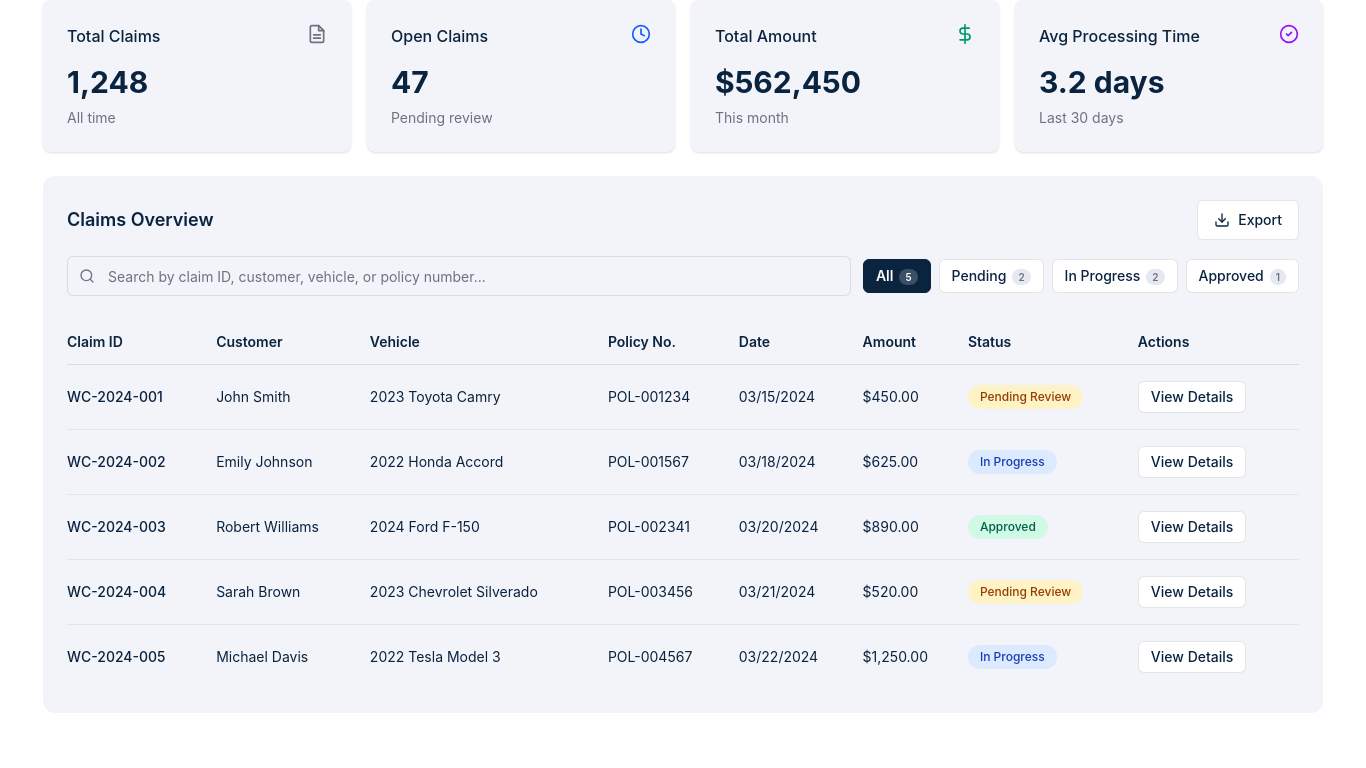
Test: InsurerDashboardPage › opens the claim detail modal when View Details is clicked
Click the button "View Details" in the row of "WC-2024-001" at (1192, 397), box [1138,381,1246,413]
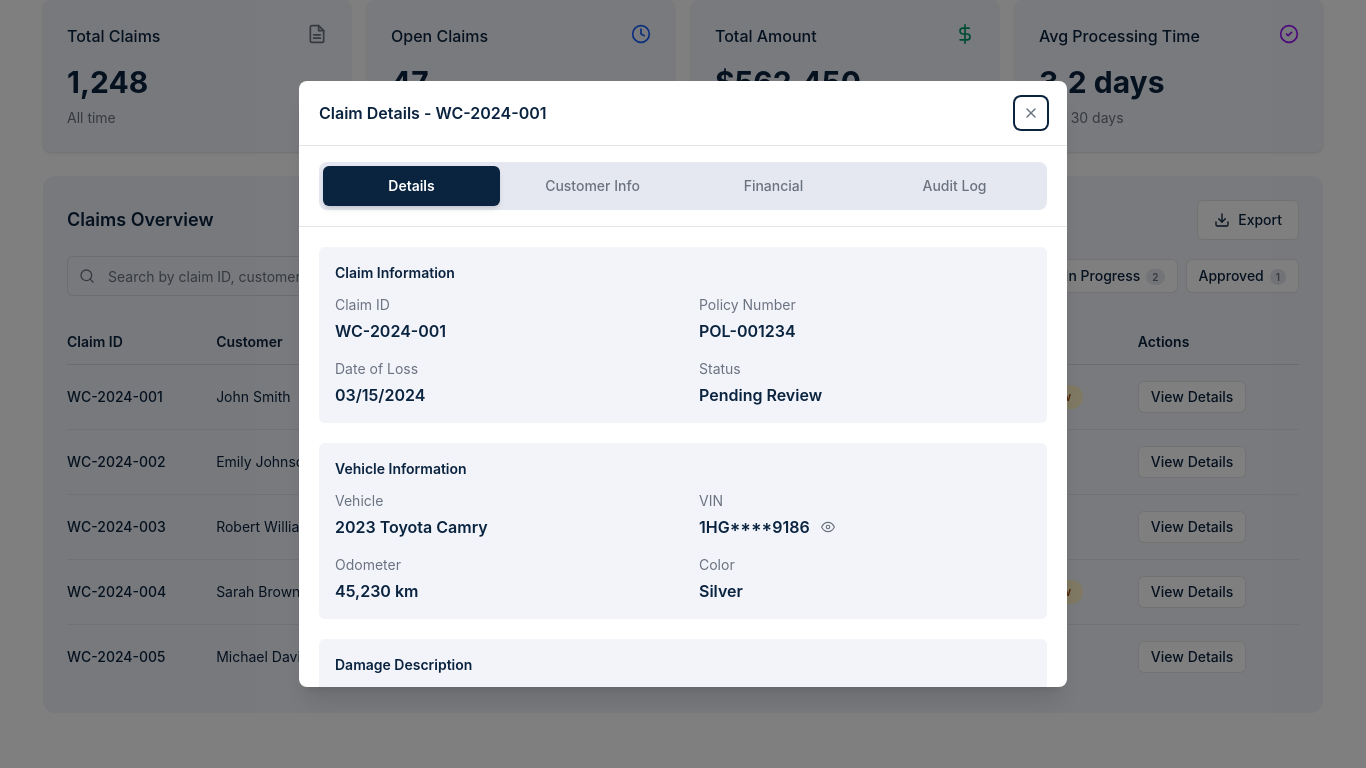
Now the heading "Claim Details - WC-2024-001" is shown, box [319,101,546,125]
Now the tab "Customer Info" is shown, box [504,166,681,206]
Now the tab "Financial" is shown, box [685,166,862,206]
